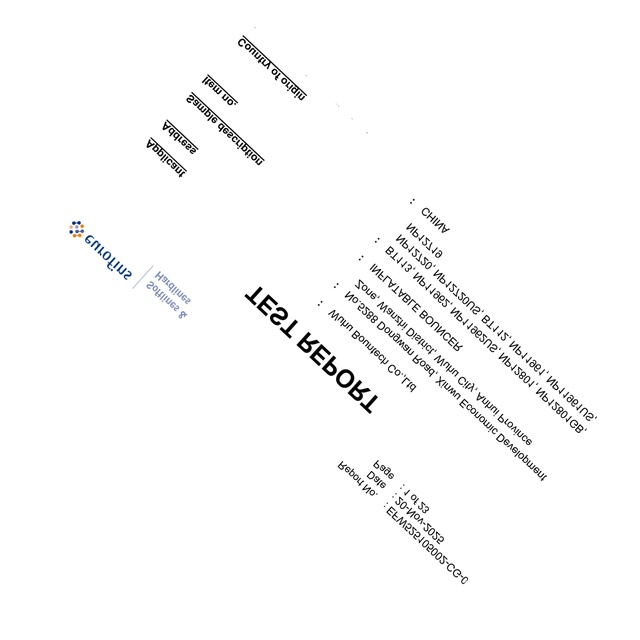eurofins: (63, 213, 133, 284)
